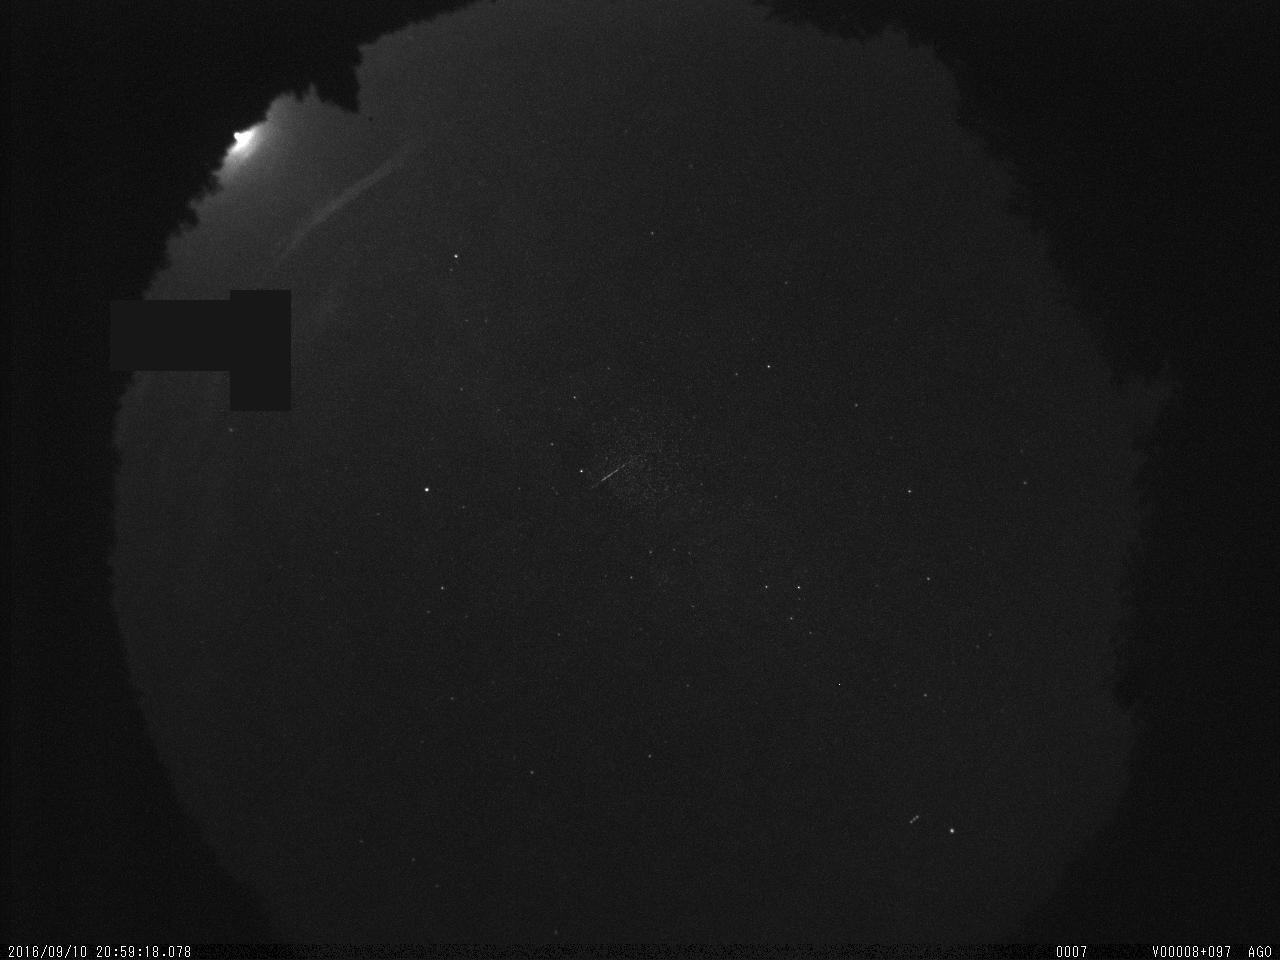meteor: (581, 443, 671, 499)
